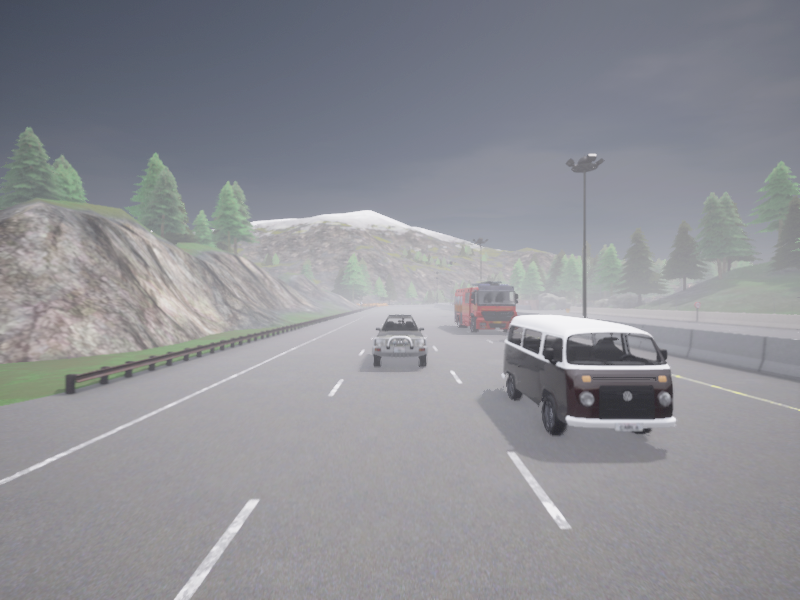vehicle: (502, 315, 675, 434), (455, 281, 517, 332), (372, 314, 427, 367), (453, 302, 454, 304)
